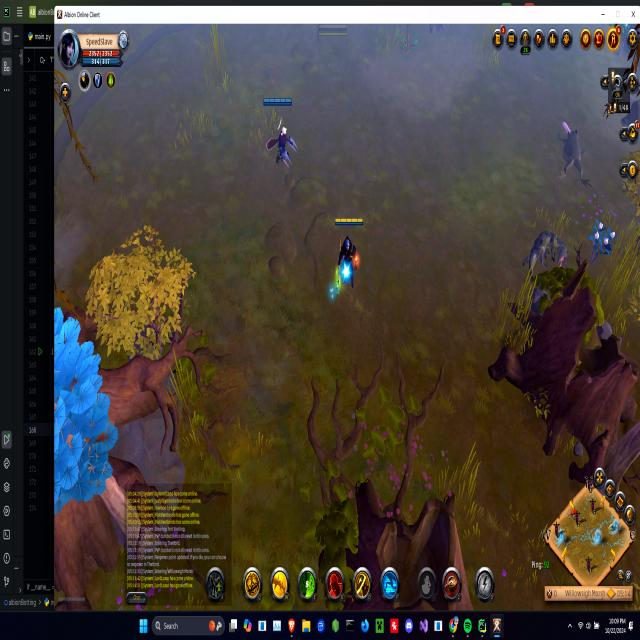hide: (588, 216, 618, 262)
red: (328, 212, 366, 304), (260, 92, 300, 176), (316, 22, 350, 39)
wisp caged: (53, 310, 134, 590)
